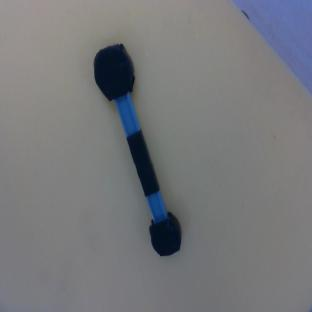part_3_bad: (87, 42, 187, 261)
